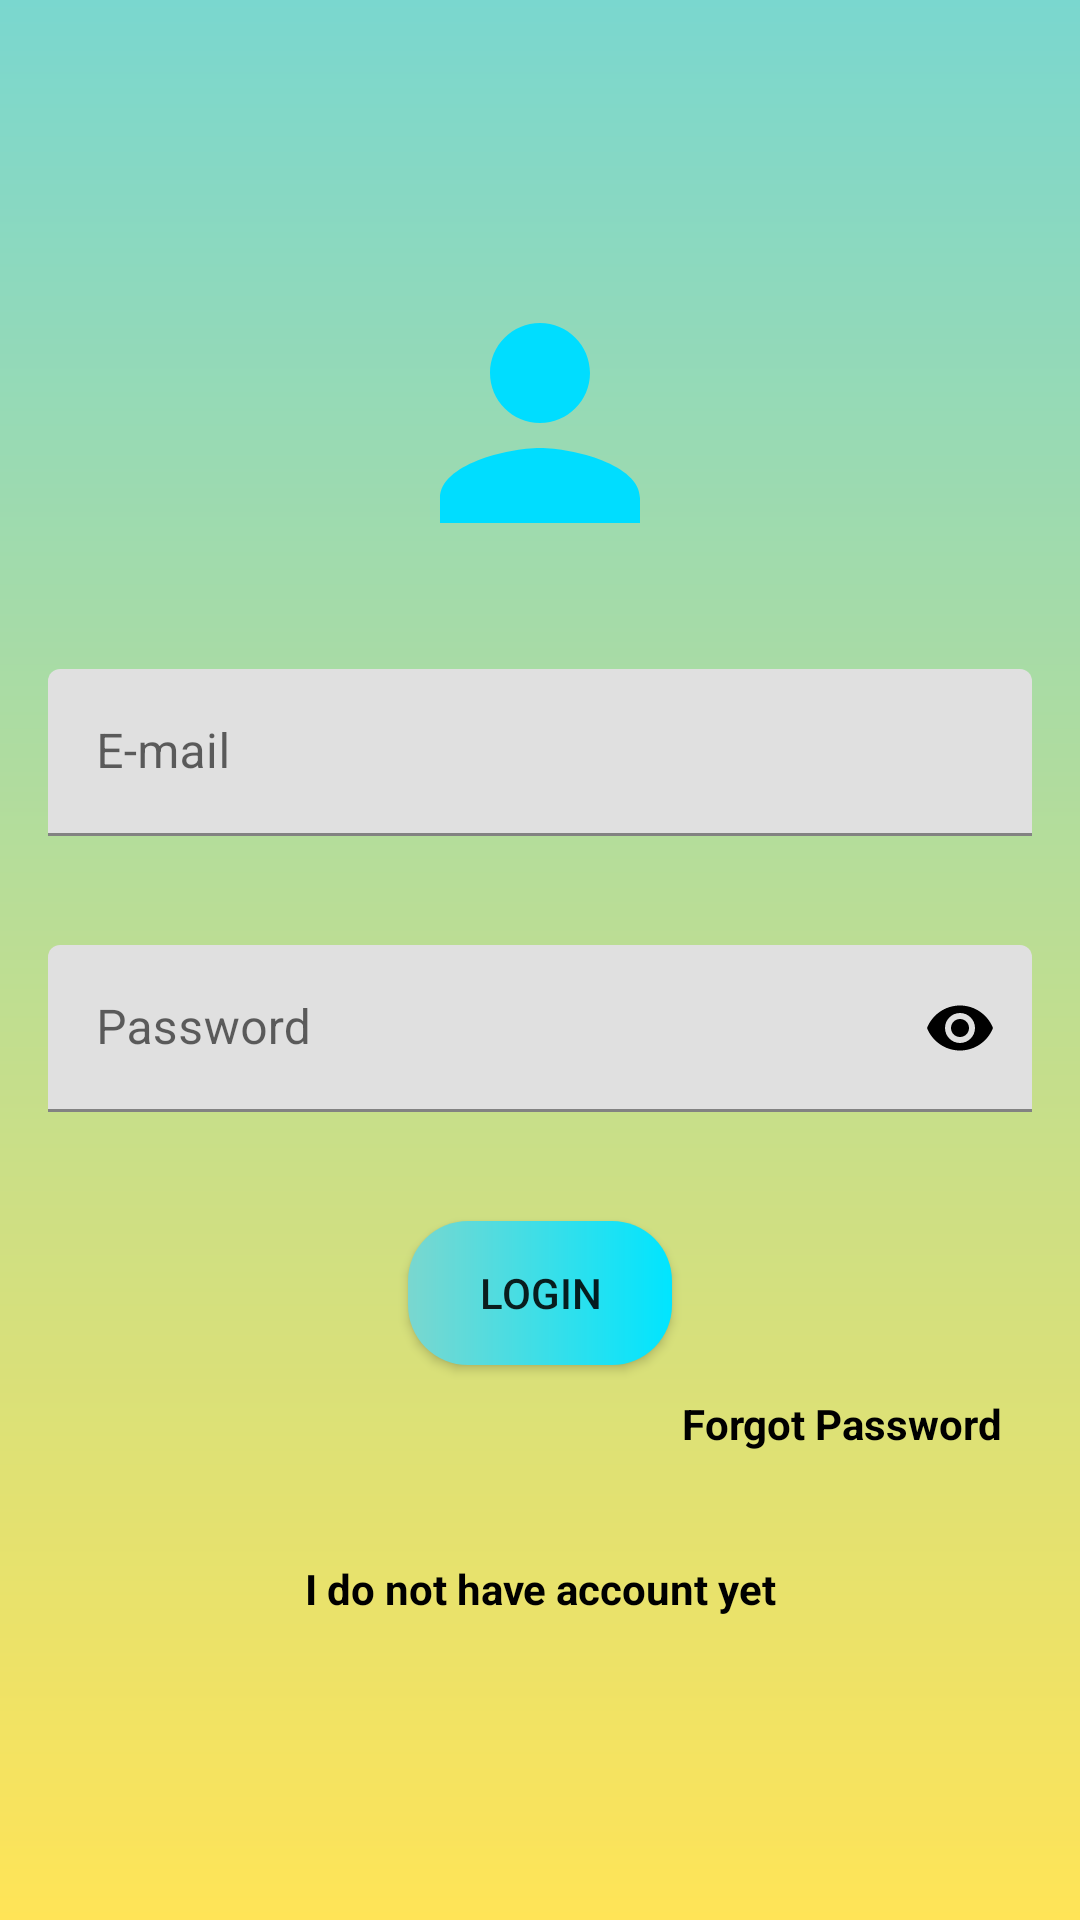

Locate icon controls on the screen. Image size 1080 x 1920, boxes as (x1, y1, x2, y2).
person: (440, 323, 640, 523)
